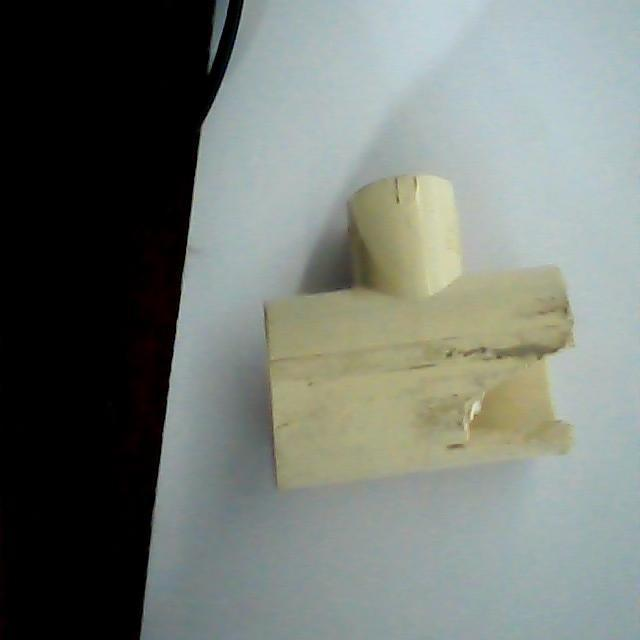Defective: (472, 343, 578, 454), (479, 345, 577, 439)
T Joint: (263, 175, 575, 495)
